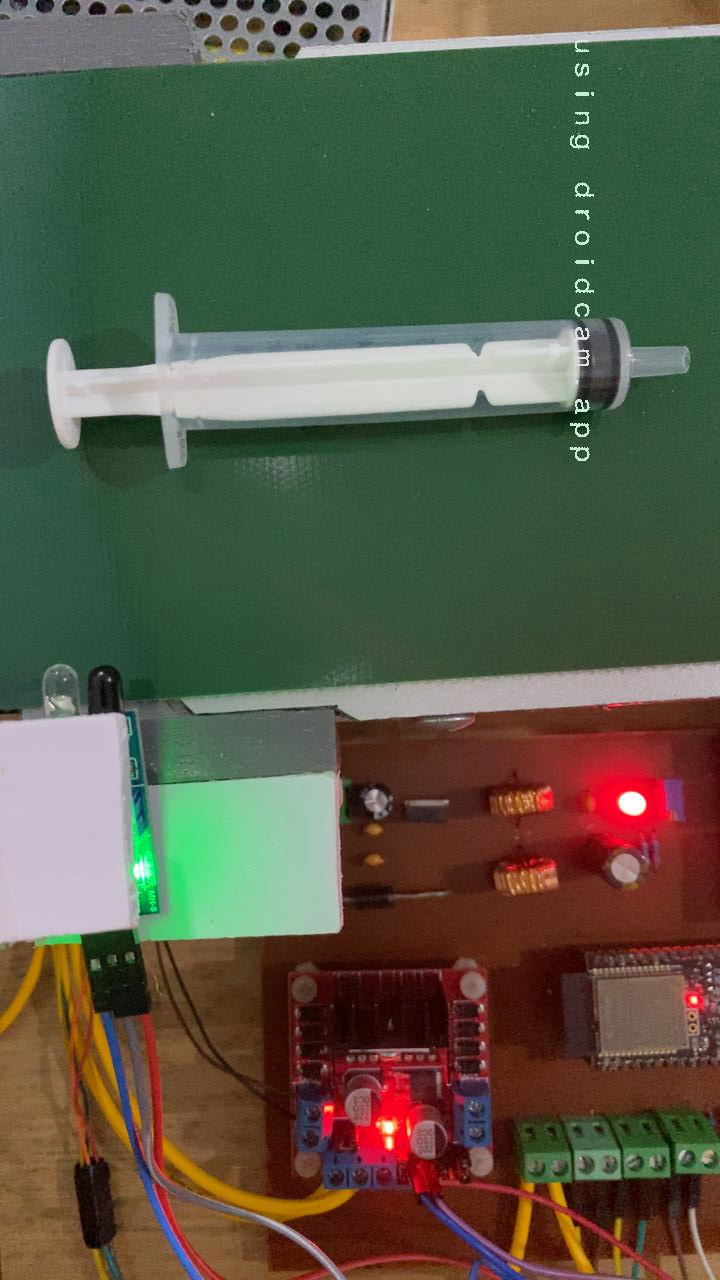syringe: (39, 286, 681, 477)
